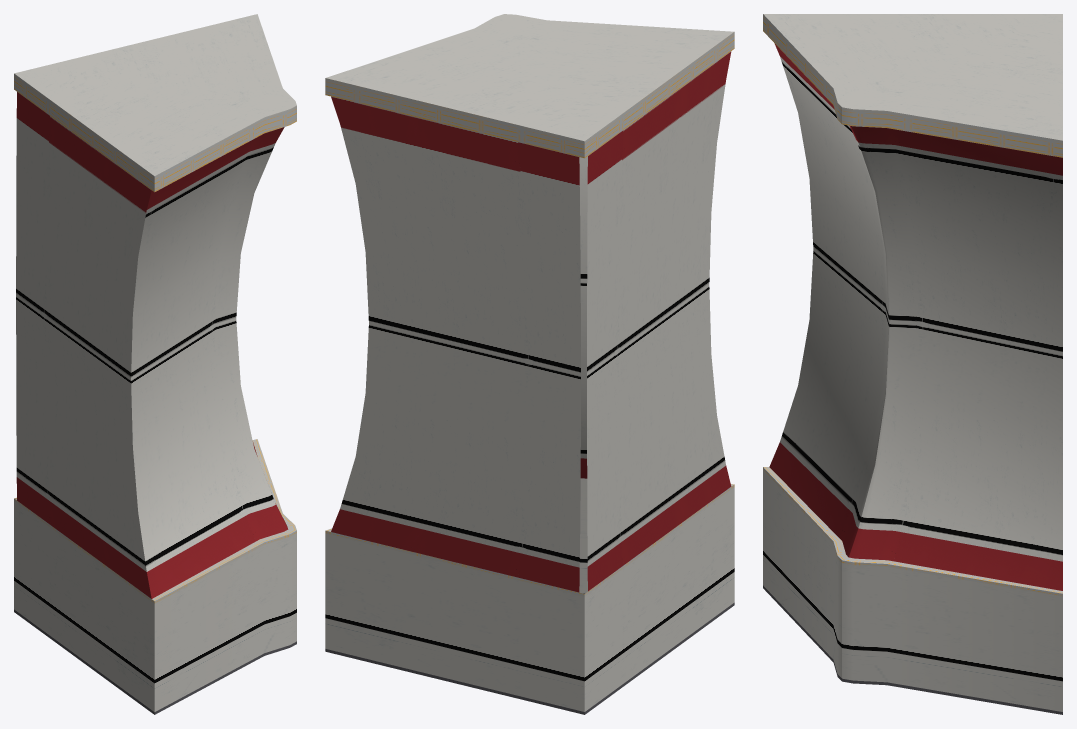
The model's file is G_Env_Arch_Wall_03_CornerAngled.fbx.
3 views of the same model, side by side, from view 1: azimuth 30°, elevation 25°; view 2: azimuth 150°, elevation 25°; view 3: azimuth 270°, elevation 25° (orthographic). The views are drawn at different scales.
Parts seen in each view (by area): view 1: G_Env_Arch_Wall_03_CornerAngled; view 2: G_Env_Arch_Wall_03_CornerAngled; view 3: G_Env_Arch_Wall_03_CornerAngled.
Boxes of the visible parts, left/top/right/bottom form: G_Env_Arch_Wall_03_CornerAngled: left=14, top=14, right=296, bottom=714; G_Env_Arch_Wall_03_CornerAngled: left=325, top=14, right=734, bottom=714; G_Env_Arch_Wall_03_CornerAngled: left=763, top=14, right=1062, bottom=714.
Bounding box in the file's own units: 426 × 900 × 426.
